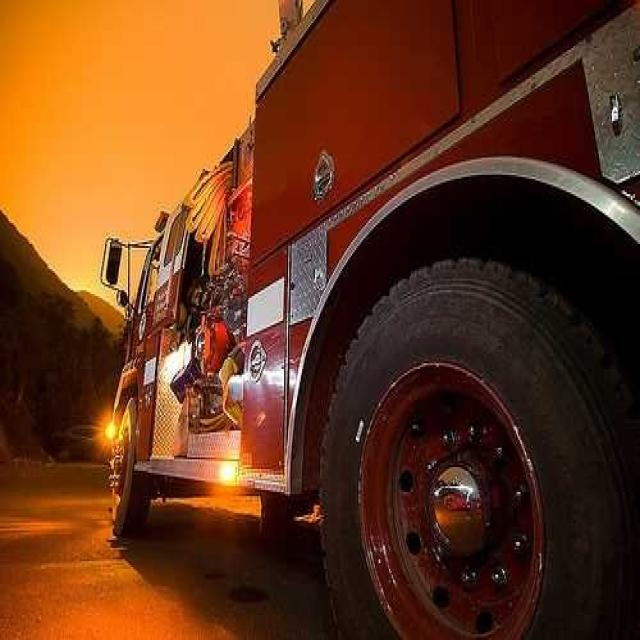ambulance: (76, 194, 541, 503)
